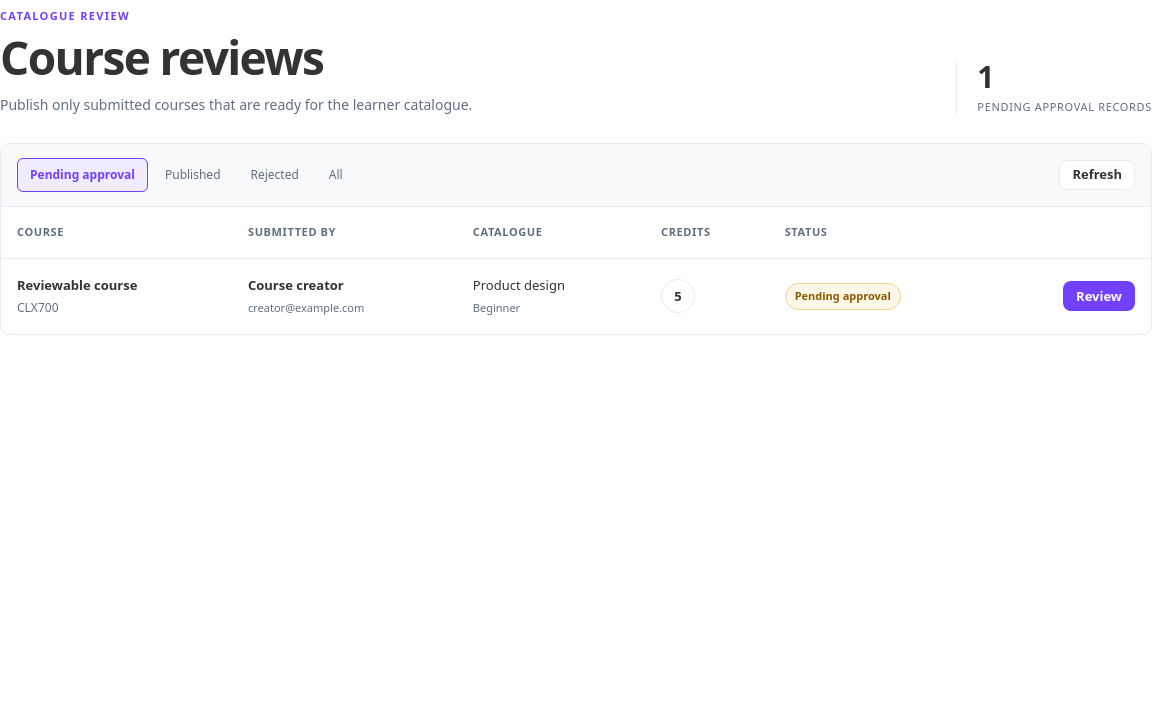
Test: first-round administrator feedback › shows learning outcomes and learning path before publishing a course
What coordinates should you click on to do the following:
click the button "Review"
I would click on:
 (1099, 296)
Its box is 1063,281 -> 1135,311.
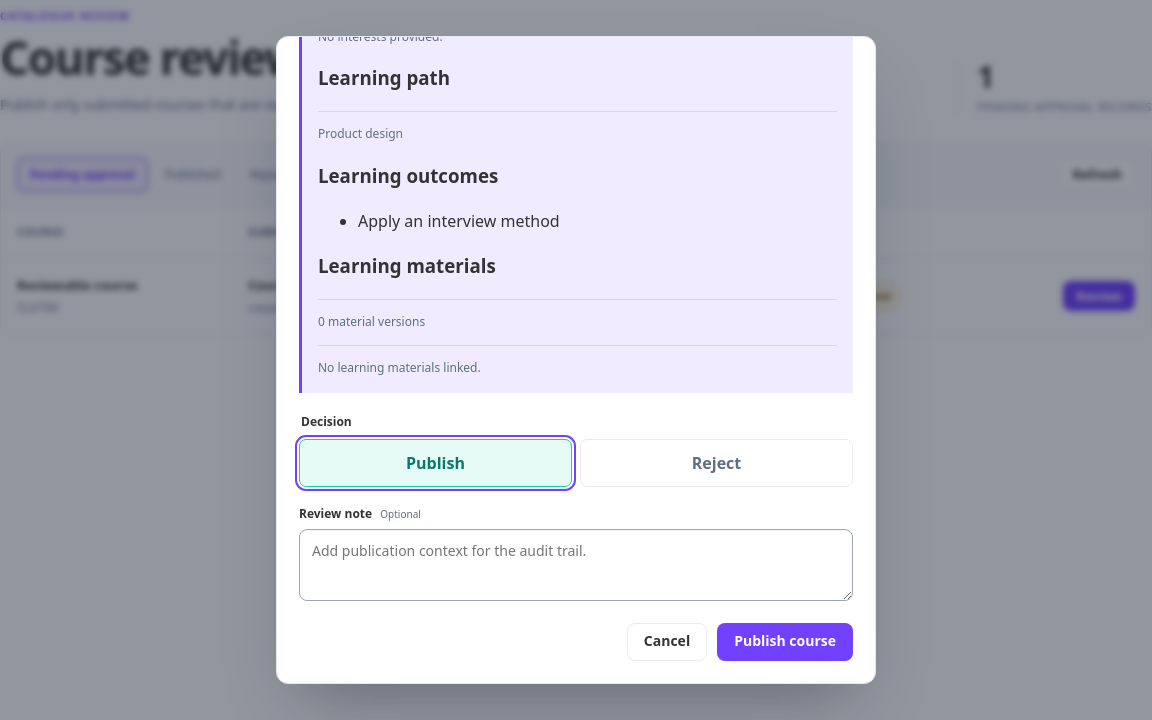
Now the text "Product design" is shown, box 318,111 -> 837,144
Now the list item "Apply an interview method" is shown, box 358,210 -> 560,232
